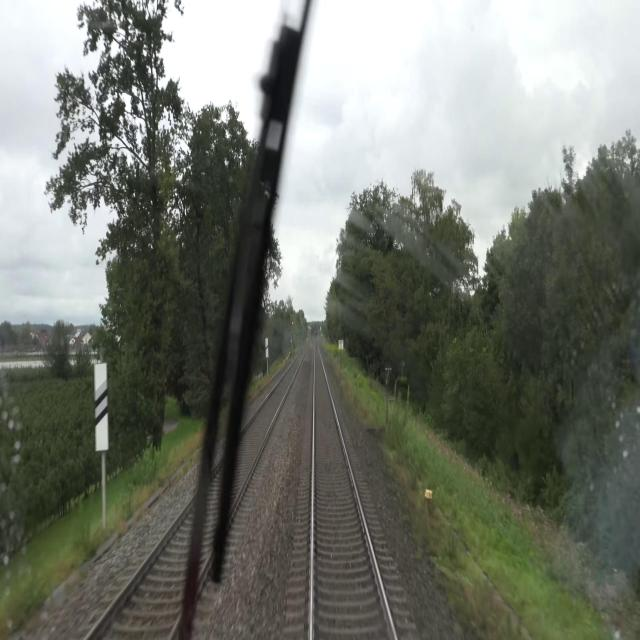rail-track: (88, 351, 303, 639), (315, 345, 393, 639)
